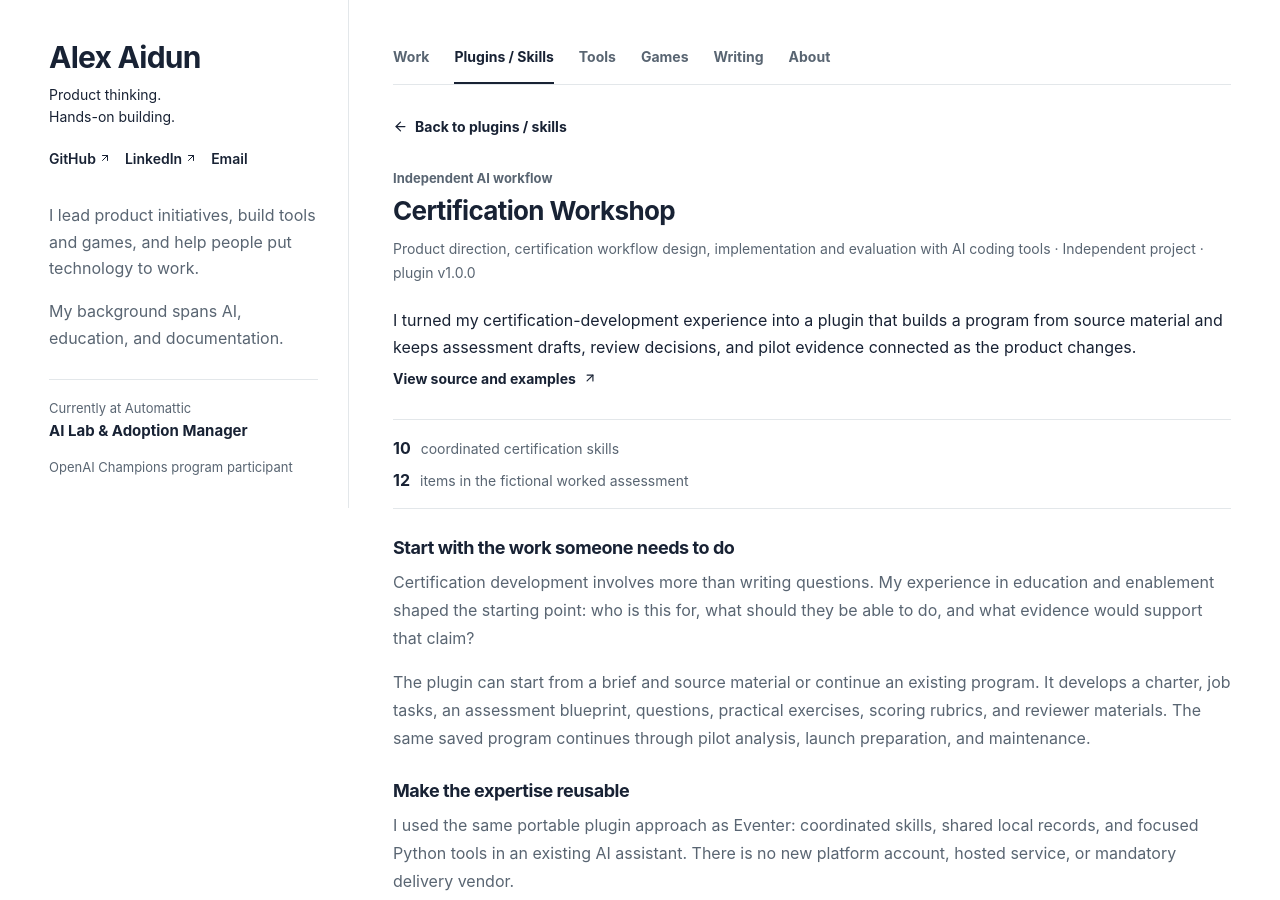
Test case: published Hybrid design › preserves every section and evidence item for Certification Workshop
The image size is (1280, 900).
Expected: the heading "Certification Workshop" is shown, 393,194 -> 675,226
Expected: the text "I turned my certification-development experience into a plugin that builds a program from source material and keeps asse" is shown, 393,310 -> 1223,357
Click the link "Back to plugins / skills".
click(480, 126)  # box 393,118 -> 567,134
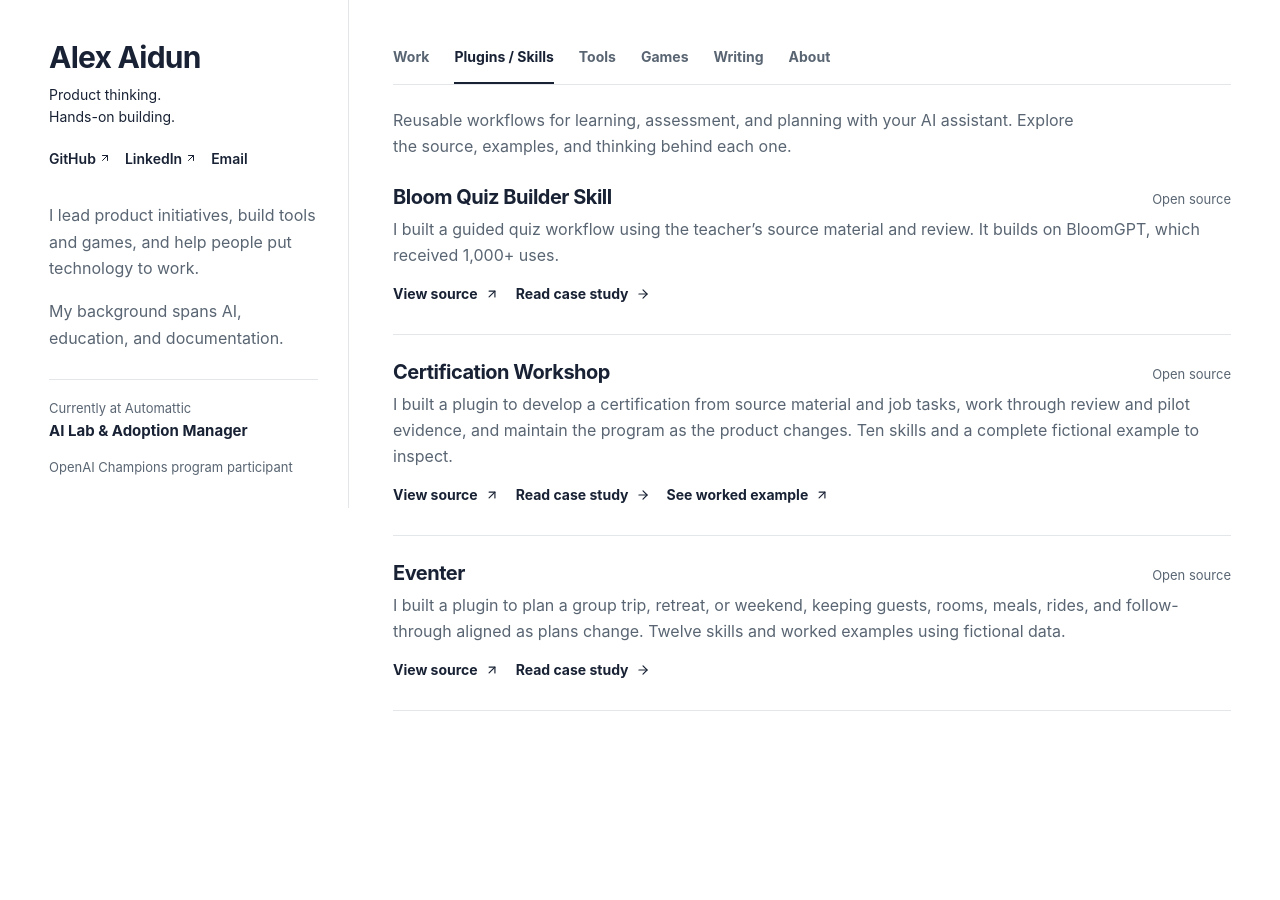
Result: the heading "Bloom Quiz Builder Skill" is shown at 393,183 -> 612,211
